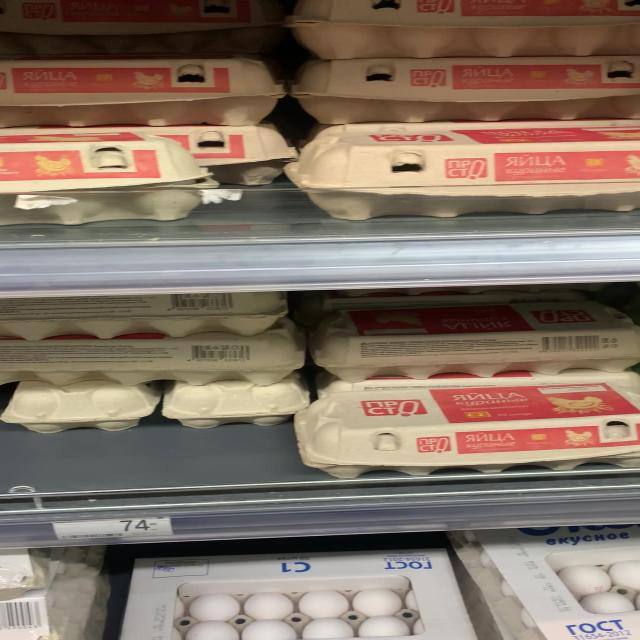egg box: (298, 375, 638, 477), (296, 114, 634, 216), (300, 45, 637, 120), (306, 303, 638, 373), (7, 121, 294, 197), (7, 49, 282, 124)
